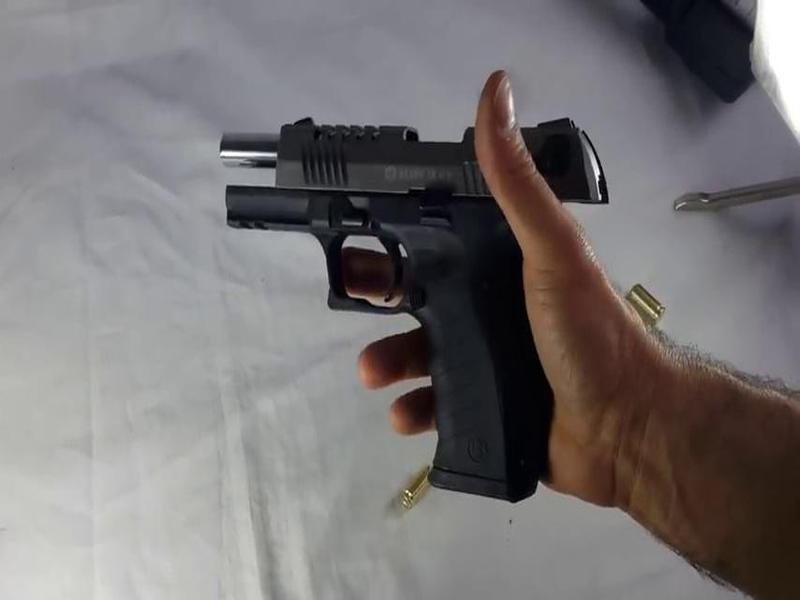Pistola: (196, 85, 602, 501)
